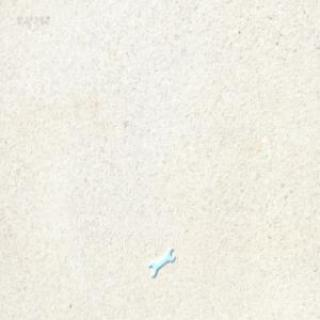Wrenchtrack_idkeyframe: (148, 247, 174, 277)
